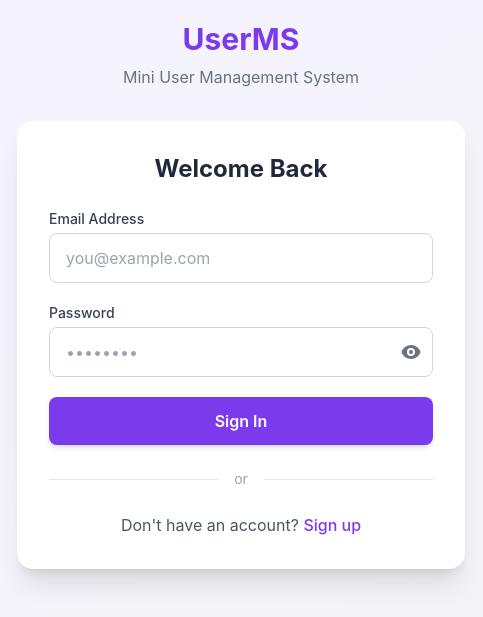
Test: Login Component › shows validation error when password is too short
The width and height of the screenshot is (483, 617).
Step 1. Type "test@example.com" into the field labelled "Email Address" → (241, 258), box [49, 233, 433, 283]
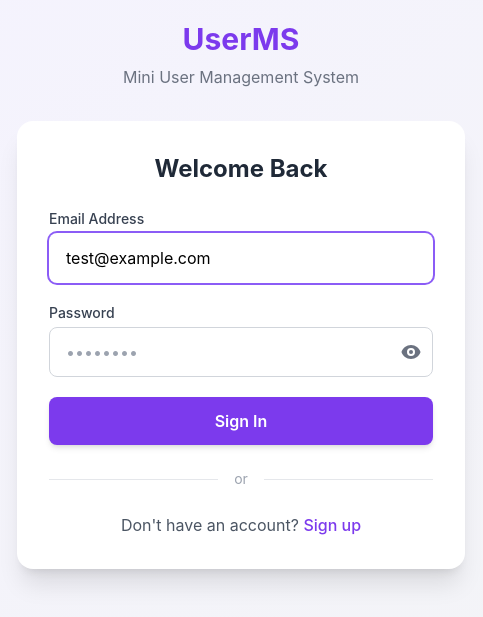
Step 2. Type "123" into the password field labelled "Password" → (241, 352), box [49, 327, 433, 377]
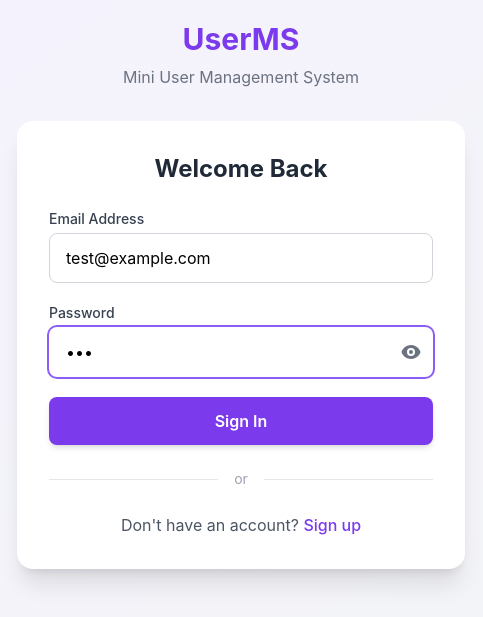
Step 3. Click the button "Sign In" → (241, 421), box [49, 397, 433, 445]
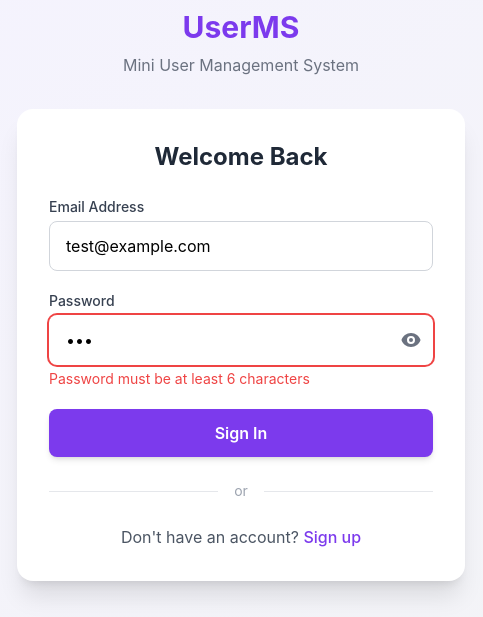
Expected: the text "Password must be at least 6 characters" is shown, [49, 370, 310, 387]
